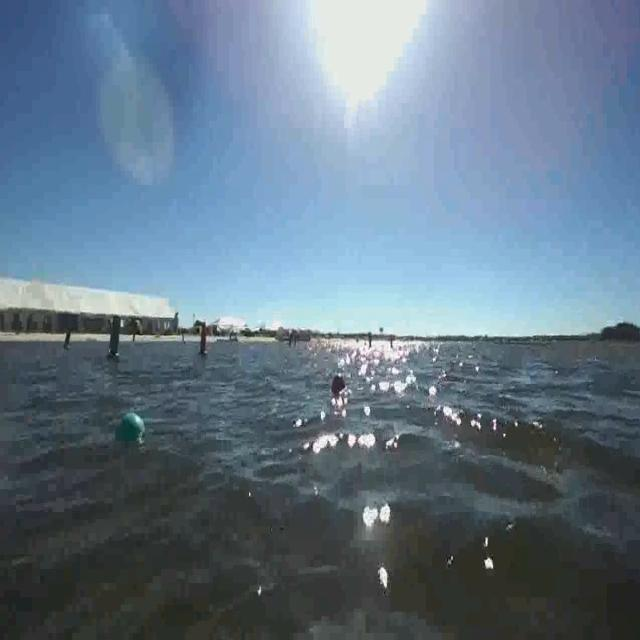green-buoy: (117, 414, 145, 443)
green-column-buoy: (106, 316, 122, 362), (64, 329, 72, 351)
red-buoy: (331, 368, 346, 394)
red-column-buoy: (199, 320, 208, 360)
